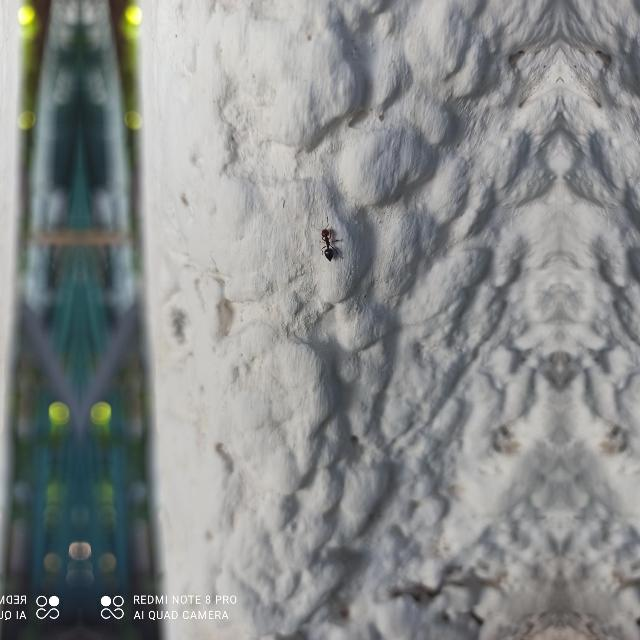Crematogaster: (320, 224, 340, 266)
